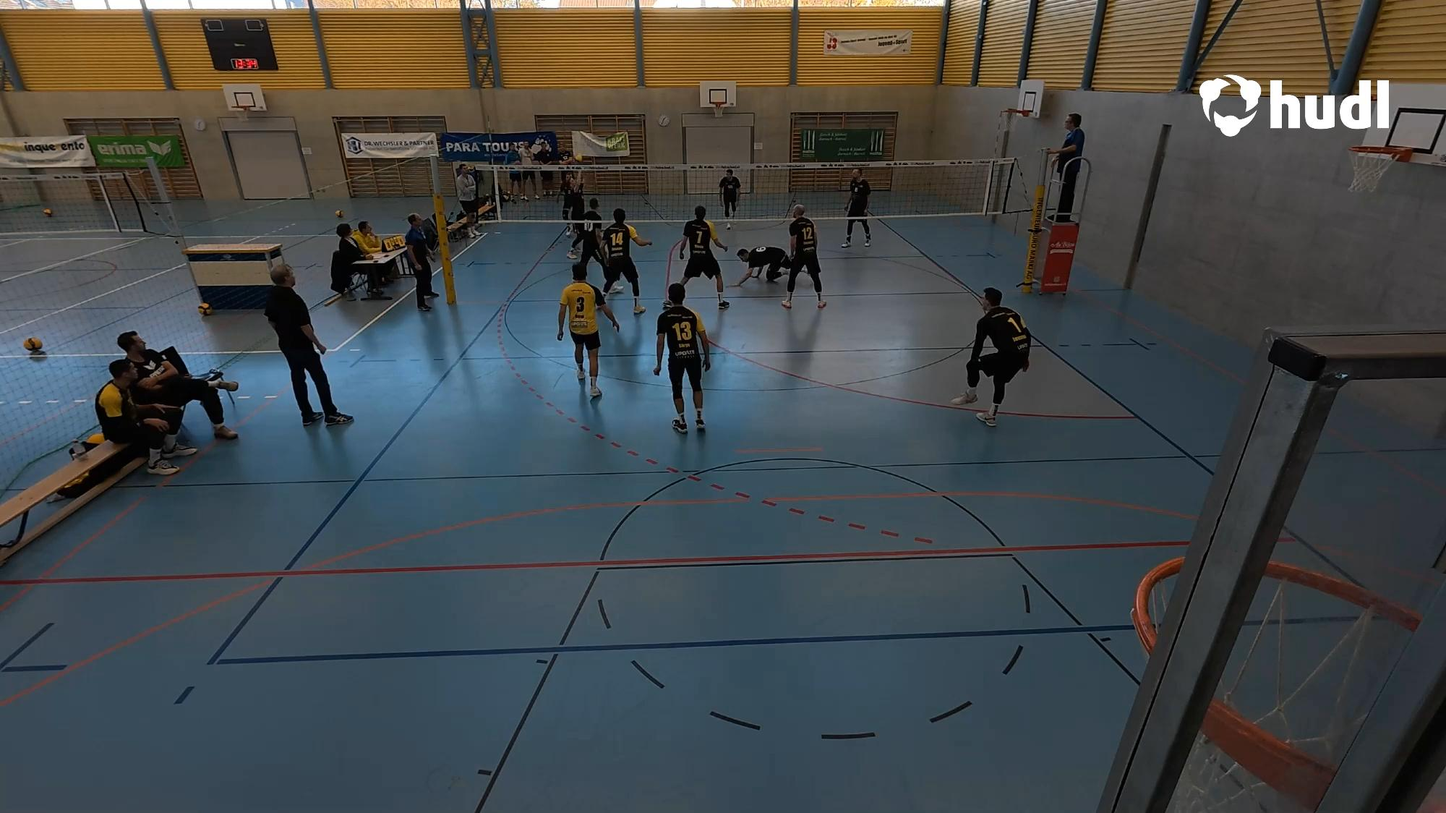alzata: (563, 153, 592, 255)
